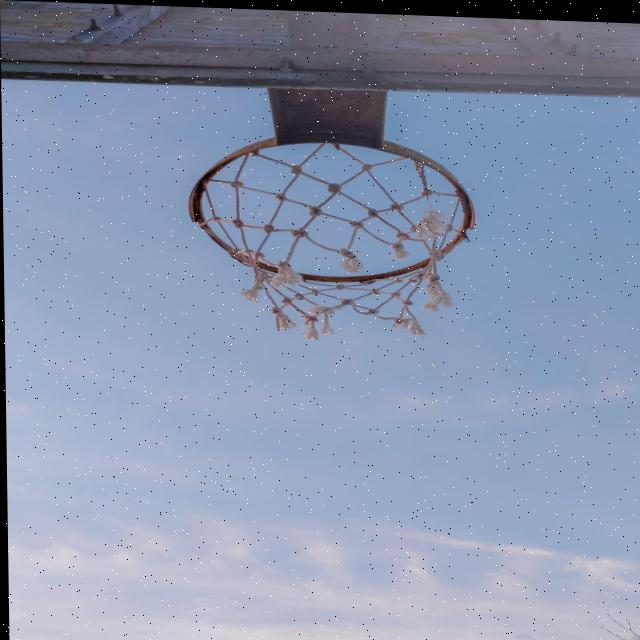hoop: (201, 125, 470, 334)
